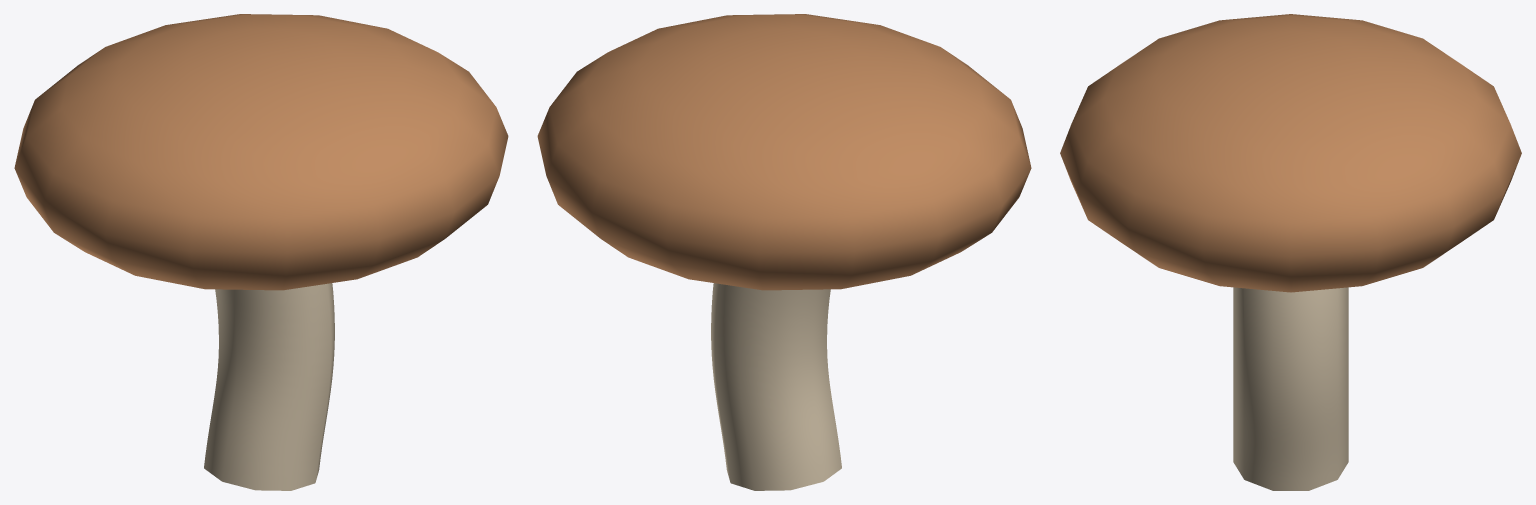
File: mushroom.glb
3 renders of one model, left to right at view 1: azimuth 30°, elevation 25°; view 2: azimuth 150°, elevation 25°; view 3: azimuth 270°, elevation 25°, orthographic. The views are drawn at different scales.
Visible parts, largest first — view 1: Chapeau, Pied; view 2: Chapeau, Pied; view 3: Chapeau, Pied.
Boxes of the visible parts, bbox=[...] form: Chapeau: bbox=[14, 14, 508, 290]; Pied: bbox=[204, 283, 334, 490]; Chapeau: bbox=[537, 14, 1031, 290]; Pied: bbox=[711, 283, 841, 490]; Chapeau: bbox=[1060, 14, 1521, 292]; Pied: bbox=[1233, 287, 1348, 490].
Size of the model in its own units: 1.7 by 1.56 by 1.6.
